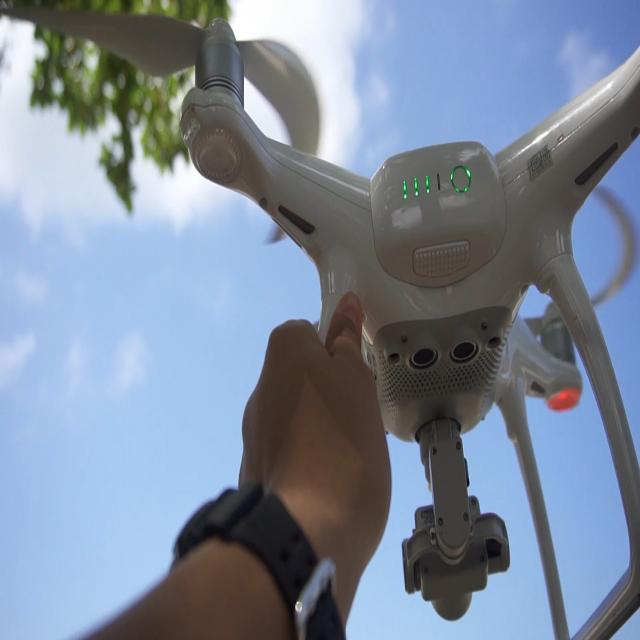Drone: (54, 4, 640, 610)
